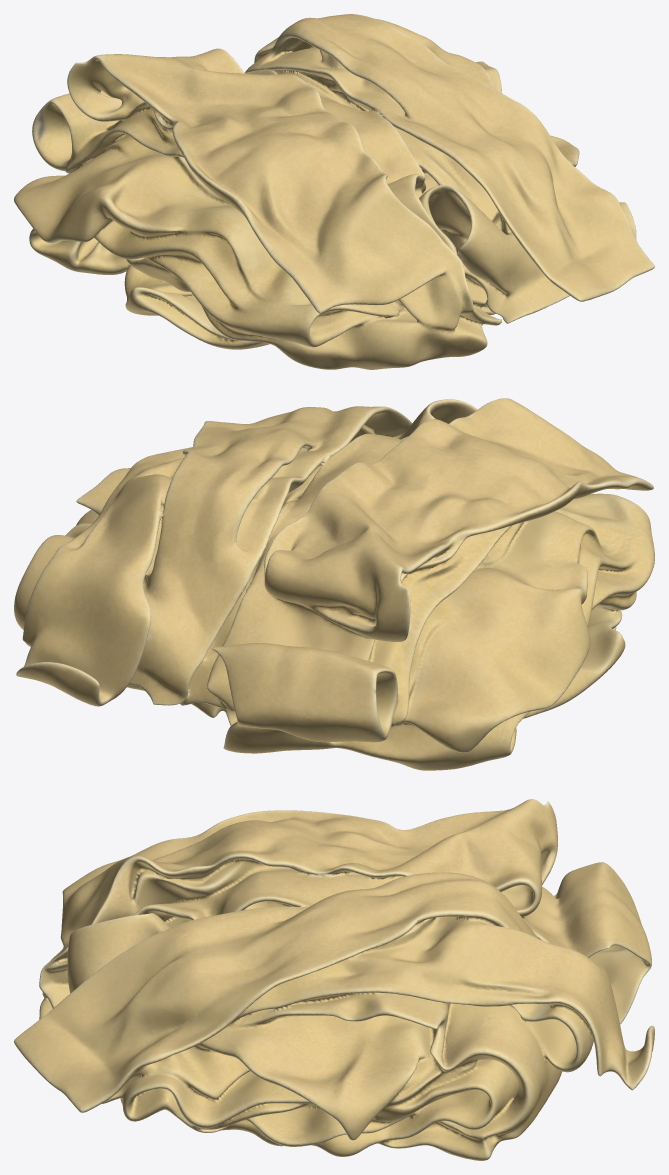
File: gun_dubu.fbx
3 views of the same model, one above another, from view 1: azimuth 30°, elevation 25°; view 2: azimuth 150°, elevation 25°; view 3: azimuth 270°, elevation 25° (orthographic). The views are drawn at different scales.
Parts seen in each view (by area): view 1: Mesh_0; view 2: Mesh_0; view 3: Mesh_0.
Boxes of the visible parts, x1=… form: Mesh_0: x1=14, y1=14, x2=654, y2=369; Mesh_0: x1=14, y1=398, x2=654, y2=770; Mesh_0: x1=14, y1=799, x2=654, y2=1160.
Size of the model in its own units: 172 by 64.87 by 190.
Materials: 1 (1 with a texture image).
